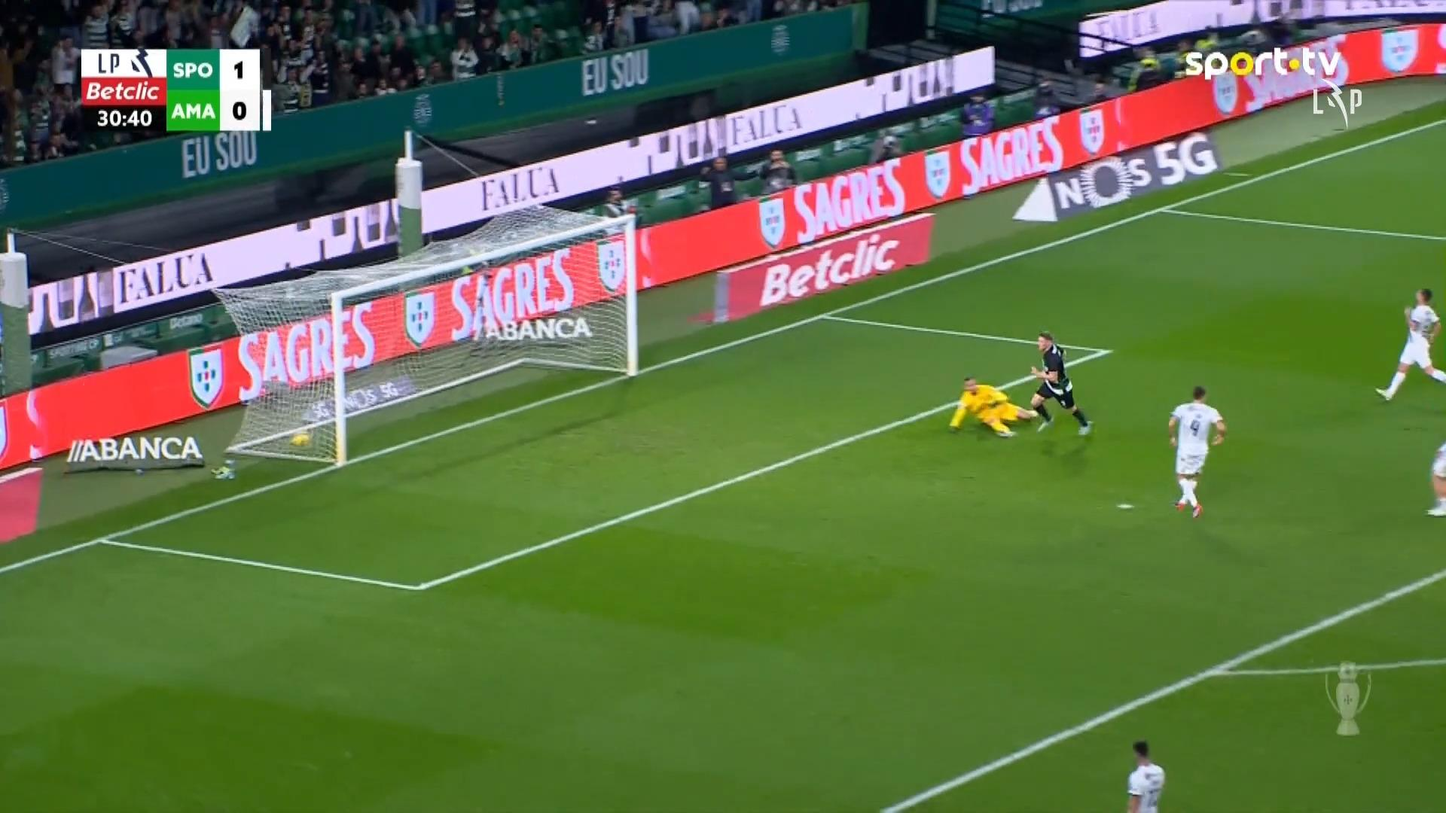ball: (290, 432, 310, 446)
goalkeeper: (947, 376, 1038, 437)
player: (1374, 286, 1444, 402), (1167, 384, 1226, 518), (1028, 330, 1094, 435), (1124, 738, 1165, 811), (1424, 440, 1445, 516)
